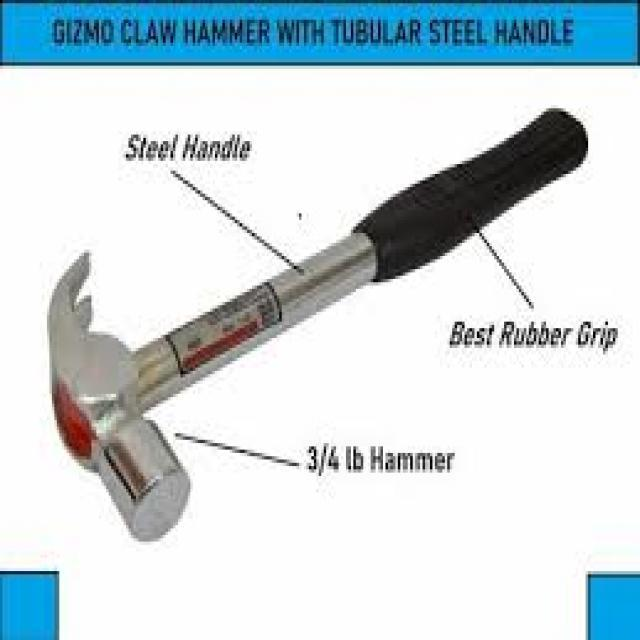hammer: (43, 101, 592, 548)
